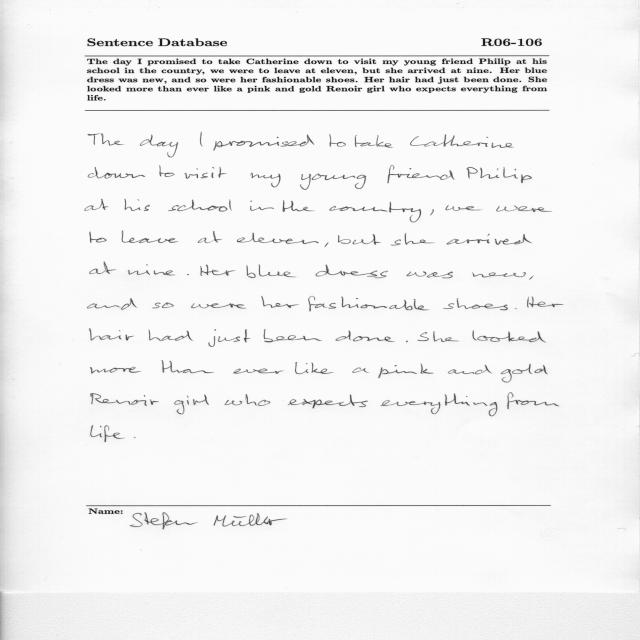word: (381, 394, 498, 417), (308, 296, 429, 312), (329, 202, 421, 223), (213, 135, 314, 151), (410, 134, 514, 148), (388, 166, 455, 184), (300, 173, 366, 190), (288, 395, 368, 409), (466, 167, 532, 183), (472, 330, 546, 343), (316, 265, 388, 278), (447, 234, 532, 245), (237, 233, 319, 244), (501, 364, 548, 383), (91, 393, 159, 406), (140, 135, 178, 158), (378, 364, 434, 379), (168, 199, 232, 212), (508, 393, 560, 409), (443, 298, 508, 310), (209, 329, 251, 347), (264, 329, 322, 342), (336, 330, 395, 342), (246, 264, 296, 278), (174, 395, 209, 415), (121, 231, 178, 243), (162, 361, 214, 374), (89, 167, 146, 178), (88, 298, 137, 310), (91, 426, 125, 443), (391, 233, 435, 246), (89, 329, 134, 341), (225, 394, 270, 406), (128, 264, 175, 275), (185, 167, 227, 179), (149, 330, 194, 341), (355, 135, 393, 148), (338, 234, 381, 245), (417, 331, 459, 342), (261, 296, 299, 308), (295, 362, 333, 374), (88, 133, 123, 146), (448, 365, 492, 375), (250, 173, 281, 187), (527, 297, 564, 308), (282, 200, 315, 212), (200, 265, 236, 276), (91, 367, 142, 374), (496, 206, 552, 212), (406, 272, 453, 279), (124, 199, 150, 211), (90, 262, 116, 274), (233, 368, 284, 374), (85, 199, 109, 211), (198, 231, 222, 243), (192, 304, 247, 309), (472, 272, 526, 277), (250, 200, 274, 211), (329, 134, 346, 147), (446, 205, 482, 211), (90, 232, 107, 243), (160, 165, 175, 177), (152, 303, 174, 309), (352, 368, 369, 373), (200, 132, 203, 147), (430, 209, 434, 216), (325, 242, 329, 247), (529, 276, 534, 280), (406, 341, 408, 343), (187, 274, 189, 275), (515, 308, 517, 309), (134, 437, 136, 438)
